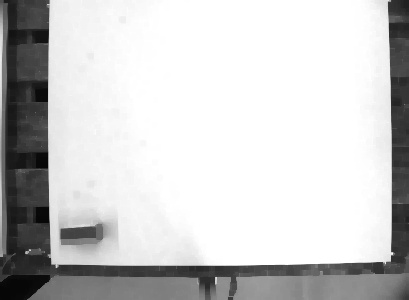b3: (56, 221, 104, 246)
